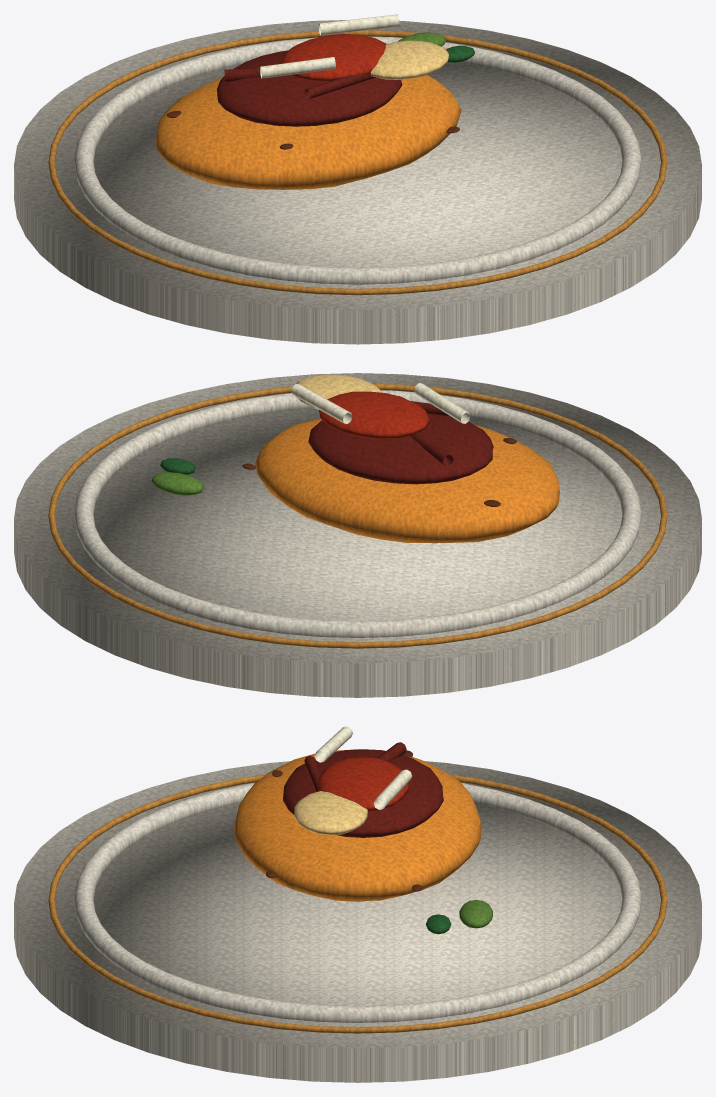
File: arepa-platano-rellena.glb
The picture shows the model from 3 angles, top to bottom: view 1: azimuth 30°, elevation 25°; view 2: azimuth 150°, elevation 25°; view 3: azimuth 270°, elevation 25°; orthographic projection.
Visible parts, largest first — view 1: porcelain, plantain, gold, beef, hogao, cheeseCoast, mozzarella; view 2: porcelain, plantain, gold, beef, hogao, mozzarella, cheeseCoast, leafLight; view 3: porcelain, plantain, gold, beef, hogao, cheeseCoast, mozzarella, leafLight.
Part boxes in pixels (left/top/right/bottom): porcelain: left=14, top=20, right=701, bottom=344; plantain: left=156, top=75, right=461, bottom=189; gold: left=48, top=30, right=667, bottom=295; beef: left=217, top=50, right=402, bottom=126; hogao: left=281, top=33, right=386, bottom=81; cheeseCoast: left=370, top=40, right=448, bottom=79; mozzarella: left=260, top=14, right=399, bottom=78; porcelain: left=14, top=373, right=701, bottom=697; plantain: left=254, top=418, right=559, bottom=543; gold: left=48, top=383, right=667, bottom=648; beef: left=308, top=401, right=493, bottom=484; hogao: left=319, top=391, right=429, bottom=439; mozzarella: left=291, top=383, right=470, bottom=423; cheeseCoast: left=296, top=374, right=382, bottom=409; leafLight: left=151, top=472, right=203, bottom=495; porcelain: left=14, top=761, right=701, bottom=1082; plantain: left=234, top=749, right=481, bottom=901; gold: left=48, top=774, right=667, bottom=1033; beef: left=283, top=742, right=443, bottom=837; hogao: left=318, top=757, right=408, bottom=811; cheeseCoast: left=294, top=791, right=367, bottom=834; mozzarella: left=314, top=726, right=412, bottom=809; leafLight: left=459, top=900, right=492, bottom=928.
Size of the model in its own units: 0.64 by 0.1705 by 0.64.
10 materials, 10 textured.
